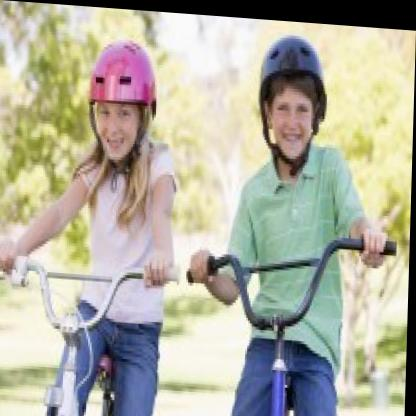With Helmet: (252, 18, 331, 165)
